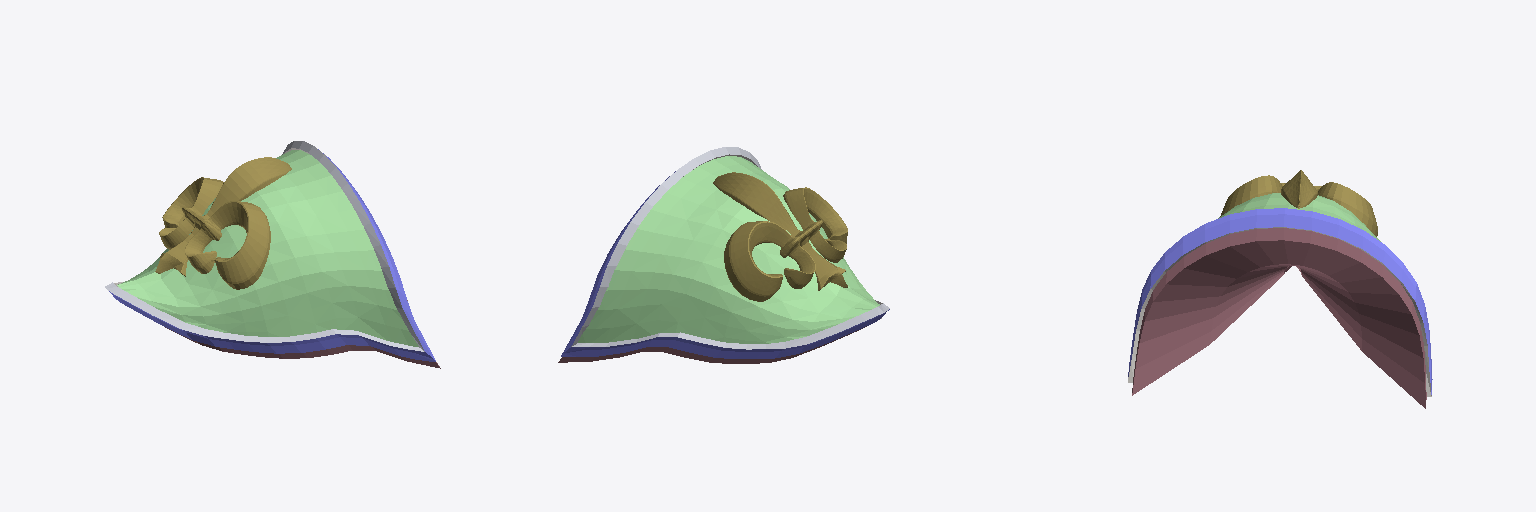
File: SoB_Shoulderpad_R.obj
3 renders of one model, left to right at view 1: azimuth 30°, elevation 25°; view 2: azimuth 150°, elevation 25°; view 3: azimuth 270°, elevation 25°, orthographic.
Visible parts, largest first — view 1: Shoulder_R Shoulder_R, Shoulder_R Form371, Shoulder_R Form183; view 2: Shoulder_R Shoulder_R, Shoulder_R Form371, Shoulder_R Form183; view 3: Shoulder_R Shoulder_R, Shoulder_R Form183, Shoulder_R Form371.
Boxes of the visible parts, x1=… form: Shoulder_R Shoulder_R: x1=117, y1=150, x2=440, y2=368; Shoulder_R Form371: x1=155, y1=157, x2=291, y2=289; Shoulder_R Form183: x1=105, y1=141, x2=435, y2=361; Shoulder_R Shoulder_R: x1=558, y1=156, x2=879, y2=363; Shoulder_R Form371: x1=713, y1=172, x2=847, y2=301; Shoulder_R Form183: x1=561, y1=147, x2=889, y2=358; Shoulder_R Shoulder_R: x1=1132, y1=193, x2=1426, y2=408; Shoulder_R Form183: x1=1128, y1=208, x2=1432, y2=396; Shoulder_R Form371: x1=1220, y1=170, x2=1377, y2=236.
Bounding box in the file's own units: 26.24 × 15.9 × 25.32.